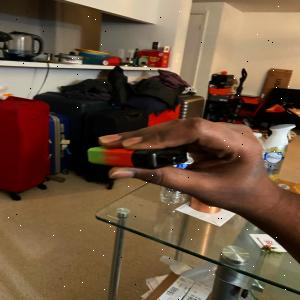Swift-E-Ciggirate: (86, 145, 190, 171)
